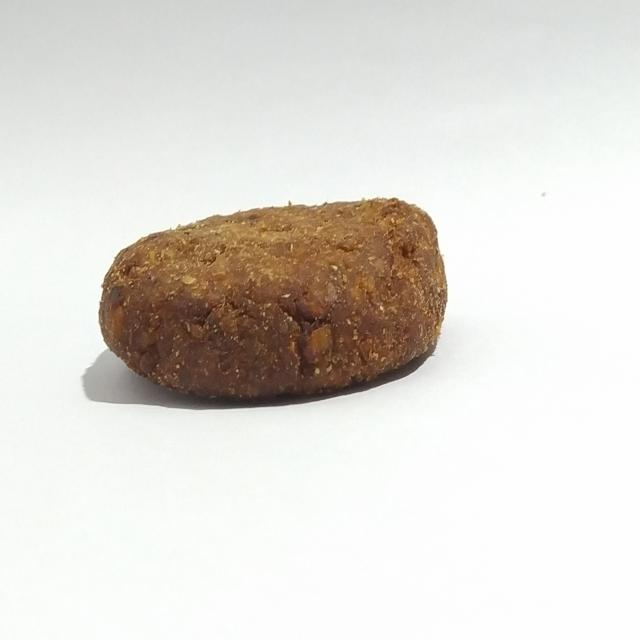Food: (94, 173, 452, 422)
